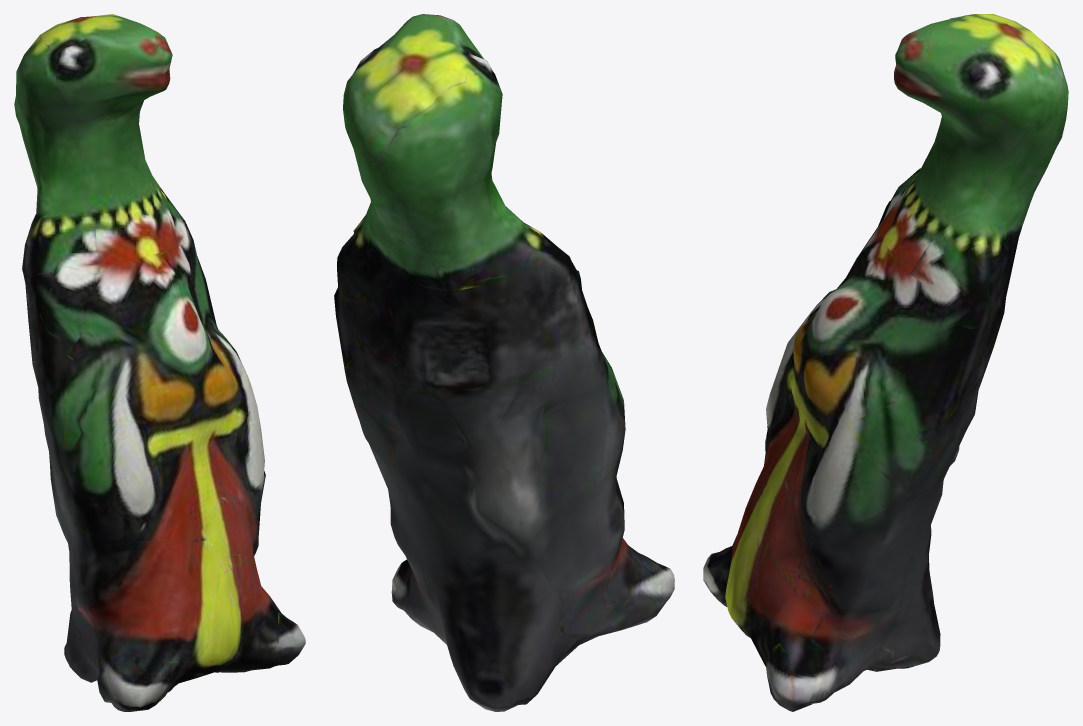
File: hall.glb
3 renders of one model, left to right at view 1: azimuth 30°, elevation 25°; view 2: azimuth 150°, elevation 25°; view 3: azimuth 270°, elevation 25°, orthographic. The views are drawn at different scales.
Bounding box in the file's own units: 0.3204 × 0.8548 × 0.4288.
1 material, 1 textured.
